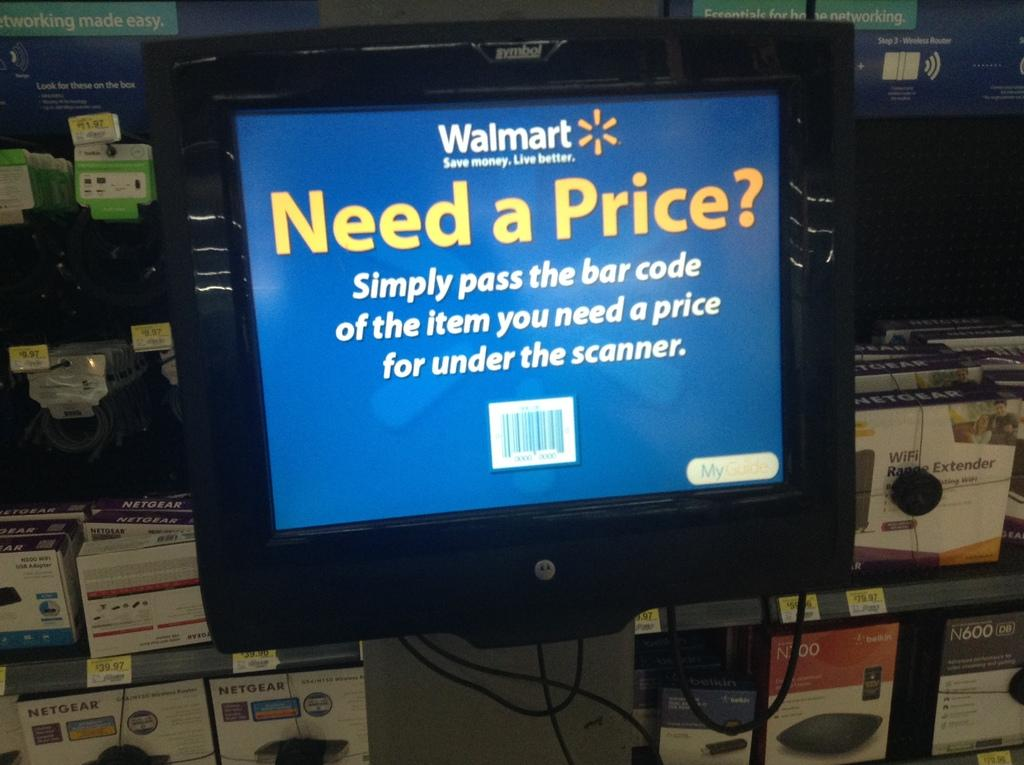Computer-monitor: (174, 45, 845, 688)
